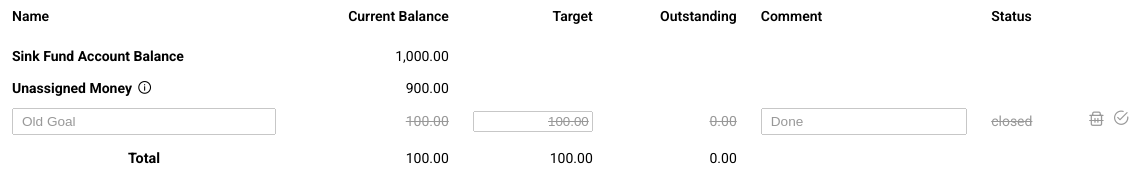
Scenario: SinkFundAllocationTable › allocation rows — edit mode › toggles status to open when reactivate button is clicked
The image size is (1148, 181).
What coordinates should you click on to do the following:
click the button with test id "reactivate-btn"
I would click on:
 (1121, 119)
Its box is [1111,108,1132,131].
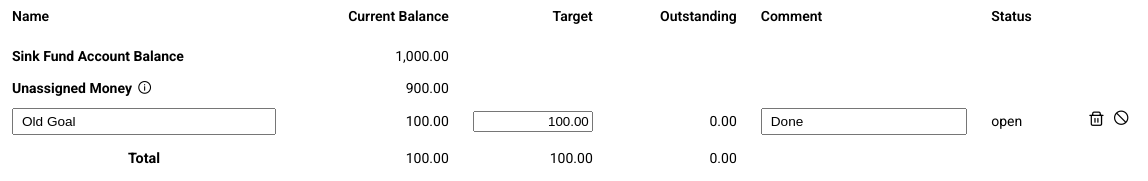
Result: the cell "open" is shown at [979,101,1066,141]
